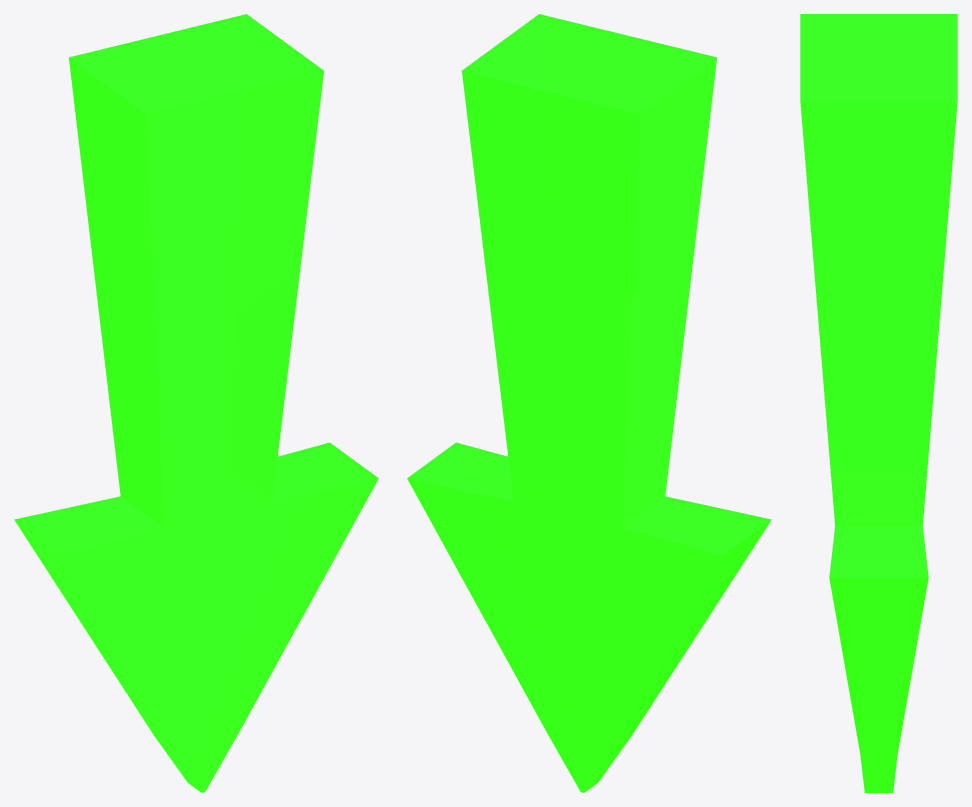
The model's file is Arrow.gltf.
The picture shows the model from 3 angles, left to right: view 1: azimuth 30°, elevation 25°; view 2: azimuth 150°, elevation 25°; view 3: azimuth 270°, elevation 25°; orthographic projection.
Visible parts, largest first — view 1: Cube, Cube.001; view 2: Cube, Cube.001; view 3: Cube, Cube.001.
Part boxes in pixels (left/top/right/bottom): Cube: left=14, top=14, right=378, bottom=792; Cube.001: left=15, top=14, right=378, bottom=792; Cube: left=407, top=14, right=771, bottom=792; Cube.001: left=407, top=14, right=770, bottom=792; Cube: left=800, top=14, right=957, bottom=792; Cube.001: left=800, top=14, right=957, bottom=792.
Bounding box in the file's own units: 1.52 × 3.33 × 0.6455.
